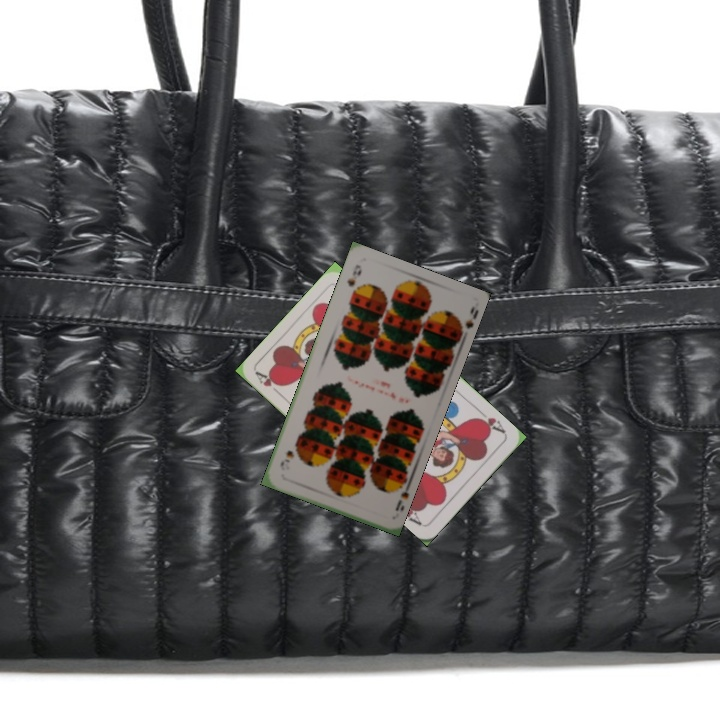HA: (471, 406, 508, 436), (252, 368, 286, 400)
S9: (390, 478, 409, 514), (343, 260, 364, 289)
